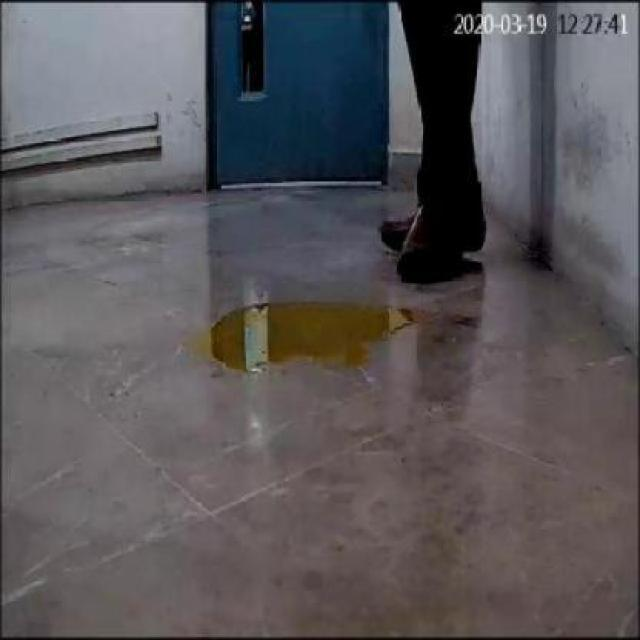spillage: (209, 303, 413, 374)
